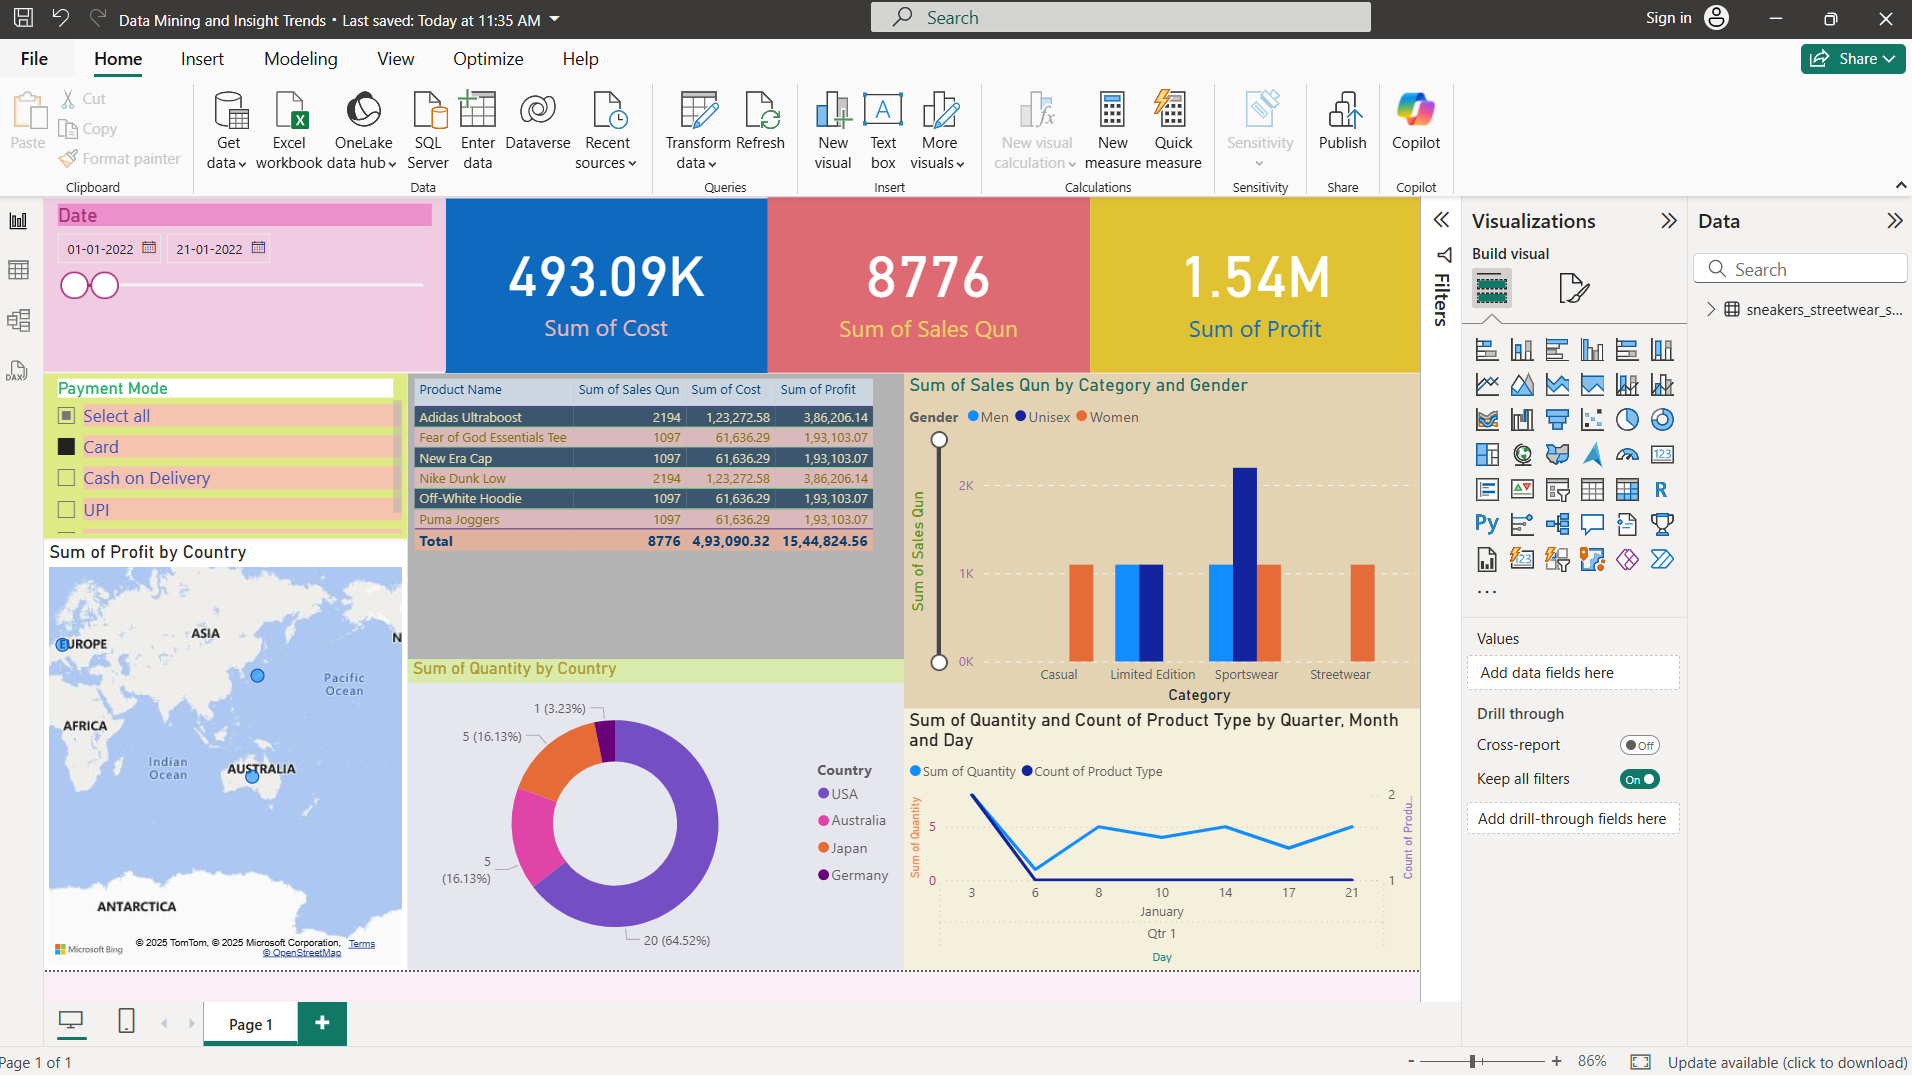

This screenshot's page, from the dashboard's own definition file:
{"tool":"powerbi","page":{"name":"Page 1","canvas":[1280,720],"ordinal":0},"visuals":[{"type":"card","fields":{"Values":["Sum(sneakers_streetwear_sales_data.Sum of Sales Quantity)"]},"box":[673.3,1.2,299.8,163.4],"z":0},{"type":"card","fields":{"Values":["Sum(sneakers_streetwear_sales_data.Sum of Cost Unit Price)"]},"box":[373.5,2.5,299.8,162.2],"z":1000},{"type":"card","fields":{"Values":["Sum(sneakers_streetwear_sales_data.Sum of Profit Amount)"]},"box":[973.1,1.2,307.2,163.4],"z":2000},{"type":"clusteredColumnChart","fields":{"Category":["sneakers_streetwear_sales_data.Category","sneakers_streetwear_sales_data.Date.Variation.Date Hierarchy.Year","sneakers_streetwear_sales_data.Date.Variation.Date Hierarchy.Quarter"],"Y":["Sum(sneakers_streetwear_sales_data.Sales Qun)"],"Series":["sneakers_streetwear_sales_data.Gender"]},"box":[800,165.1,480.2,311.6],"z":3000},{"type":"lineChart","fields":{"Category":["sneakers_streetwear_sales_data.Date.Variation.Date Hierarchy.Quarter","sneakers_streetwear_sales_data.Date.Variation.Date Hierarchy.Month","sneakers_streetwear_sales_data.Date.Variation.Date Hierarchy.Day"],"Y2":["CountNonNull(sneakers_streetwear_sales_data.Product Type)"],"Y":["Sum(sneakers_streetwear_sales_data.Quantity)"]},"box":[799.8,476.7,480.4,243.3],"z":4000},{"type":"donutChart","fields":{"Y":["Sum(sneakers_streetwear_sales_data.Quantity)"],"Category":["sneakers_streetwear_sales_data.Country"]},"box":[337.9,430,462,290],"z":5000},{"type":"tableEx","fields":{"Values":["sneakers_streetwear_sales_data.Product Name","Sum(sneakers_streetwear_sales_data.Sales Quantity)","Sum(sneakers_streetwear_sales_data.Cost Unit Price)","Sum(sneakers_streetwear_sales_data.Profit Amount)"]},"box":[337.9,164.6,462,265.4],"z":6000},{"type":"map","fields":{"Category":["sneakers_streetwear_sales_data.Country"],"Size":["Sum(sneakers_streetwear_sales_data.Profit)"]},"box":[0,320.7,337.9,399.3],"z":7000},{"type":"slicer","fields":{"Values":["sneakers_streetwear_sales_data.Payment Mode"]},"box":[0,164.6,337.9,153.6],"z":8000},{"type":"slicer","fields":{"Values":["sneakers_streetwear_sales_data.Date"]},"box":[0,2.5,373.5,161],"z":9000}]}

Visuals, with their boxes on the page's 1280x720 design canvas (x1, y1, x2, y2). These are canvas units, not pixel positions in the 1912x1075 screenshot, which may show the page scaled, cropped or inside an application window:
card - Sum(sneakers_streetwear_sales_data.Sum of Sales Quantity): box(673, 1, 973, 165)
card - Sum(sneakers_streetwear_sales_data.Sum of Cost Unit Price): box(374, 2, 673, 165)
card - Sum(sneakers_streetwear_sales_data.Sum of Profit Amount): box(973, 1, 1280, 165)
clusteredColumnChart - sneakers_streetwear_sales_data.Category x sneakers_streetwear_sales_data.Date.Variation.Date Hierarchy.Year: box(800, 165, 1280, 477)
lineChart - sneakers_streetwear_sales_data.Date.Variation.Date Hierarchy.Quarter x sneakers_streetwear_sales_data.Date.Variation.Date Hierarchy.Month: box(800, 477, 1280, 720)
donutChart - Sum(sneakers_streetwear_sales_data.Quantity) x sneakers_streetwear_sales_data.Country: box(338, 430, 800, 720)
tableEx - sneakers_streetwear_sales_data.Product Name x Sum(sneakers_streetwear_sales_data.Sales Quantity): box(338, 165, 800, 430)
map - sneakers_streetwear_sales_data.Country x Sum(sneakers_streetwear_sales_data.Profit): box(0, 321, 338, 720)
slicer - sneakers_streetwear_sales_data.Payment Mode: box(0, 165, 338, 318)
slicer - sneakers_streetwear_sales_data.Date: box(0, 2, 374, 164)
